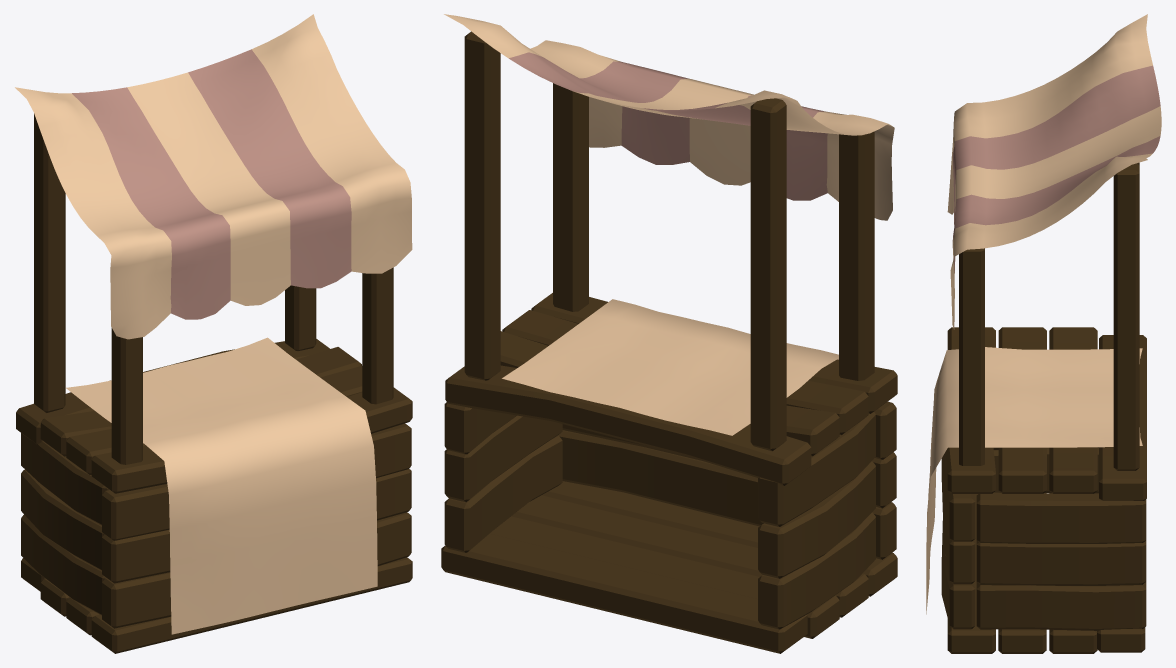
The model's file is MidMarketStall.fbx.
The picture shows the model from 3 angles, left to right: view 1: azimuth 30°, elevation 25°; view 2: azimuth 150°, elevation 25°; view 3: azimuth 270°, elevation 25°; orthographic projection. The views are drawn at different scales.
Visible parts, largest first — view 1: MidMarketStall1_Roof; view 2: MidMarketStall1_Roof; view 3: MidMarketStall1_Roof.
Boxes of the visible parts, left/top/right/bottom form: MidMarketStall1_Roof: left=15, top=14, right=412, bottom=653; MidMarketStall1_Roof: left=441, top=14, right=897, bottom=653; MidMarketStall1_Roof: left=926, top=14, right=1161, bottom=653.
Bounding box in the file's own units: 249 × 382 × 165.
